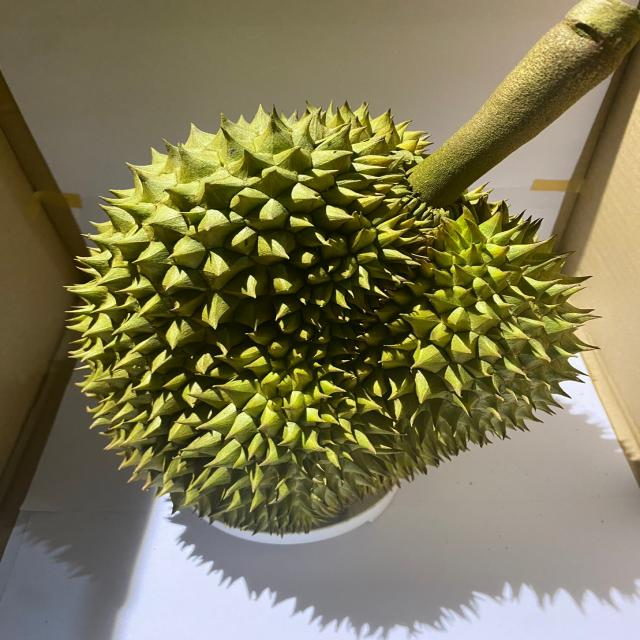immature: (65, 95, 596, 533)
